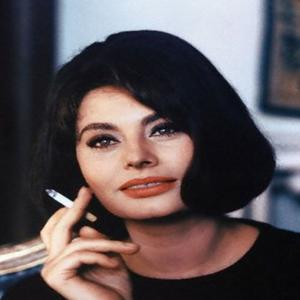cigarette: (45, 187, 98, 223)
